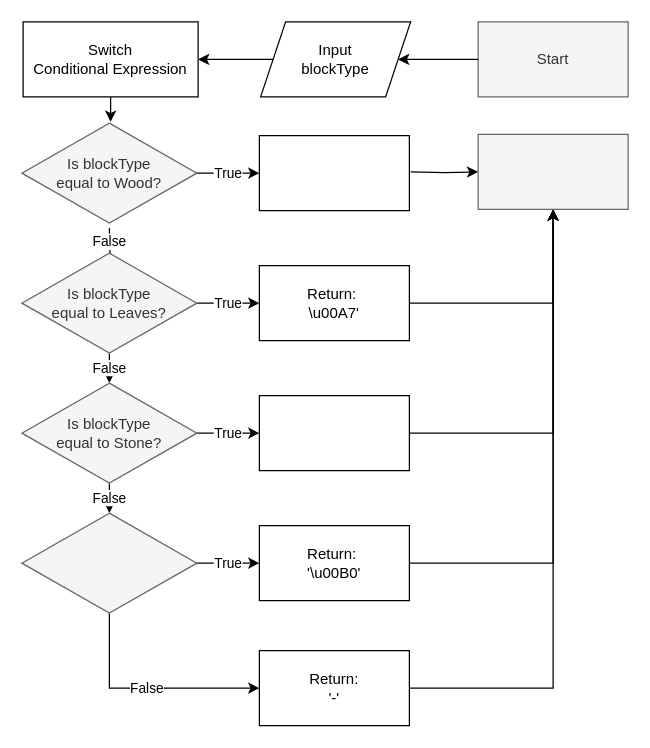
This 650x748 diagram has some shape labels left out. Here are the shapes that lost their labels. From the top down, the centre of each, then its label:
pixel 333 172: Return: '\u2592'
pixel 552 171: End
pixel 333 432: Return: '\u2593'
pixel 109 562: Is blockType equal to Iron Ore?
